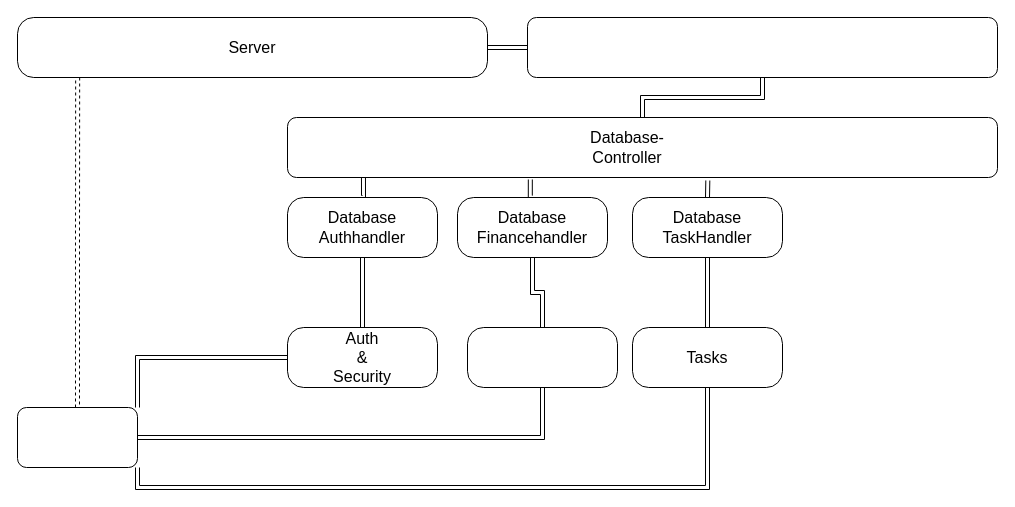
Image size: 1015x507. Some labels were removed from this diagram. The centre of each missing label's shape, as x and y in pixels:
"Database" goes at point (762, 47).
"Finance" goes at point (542, 357).
"Modules Controller" goes at point (77, 437).
